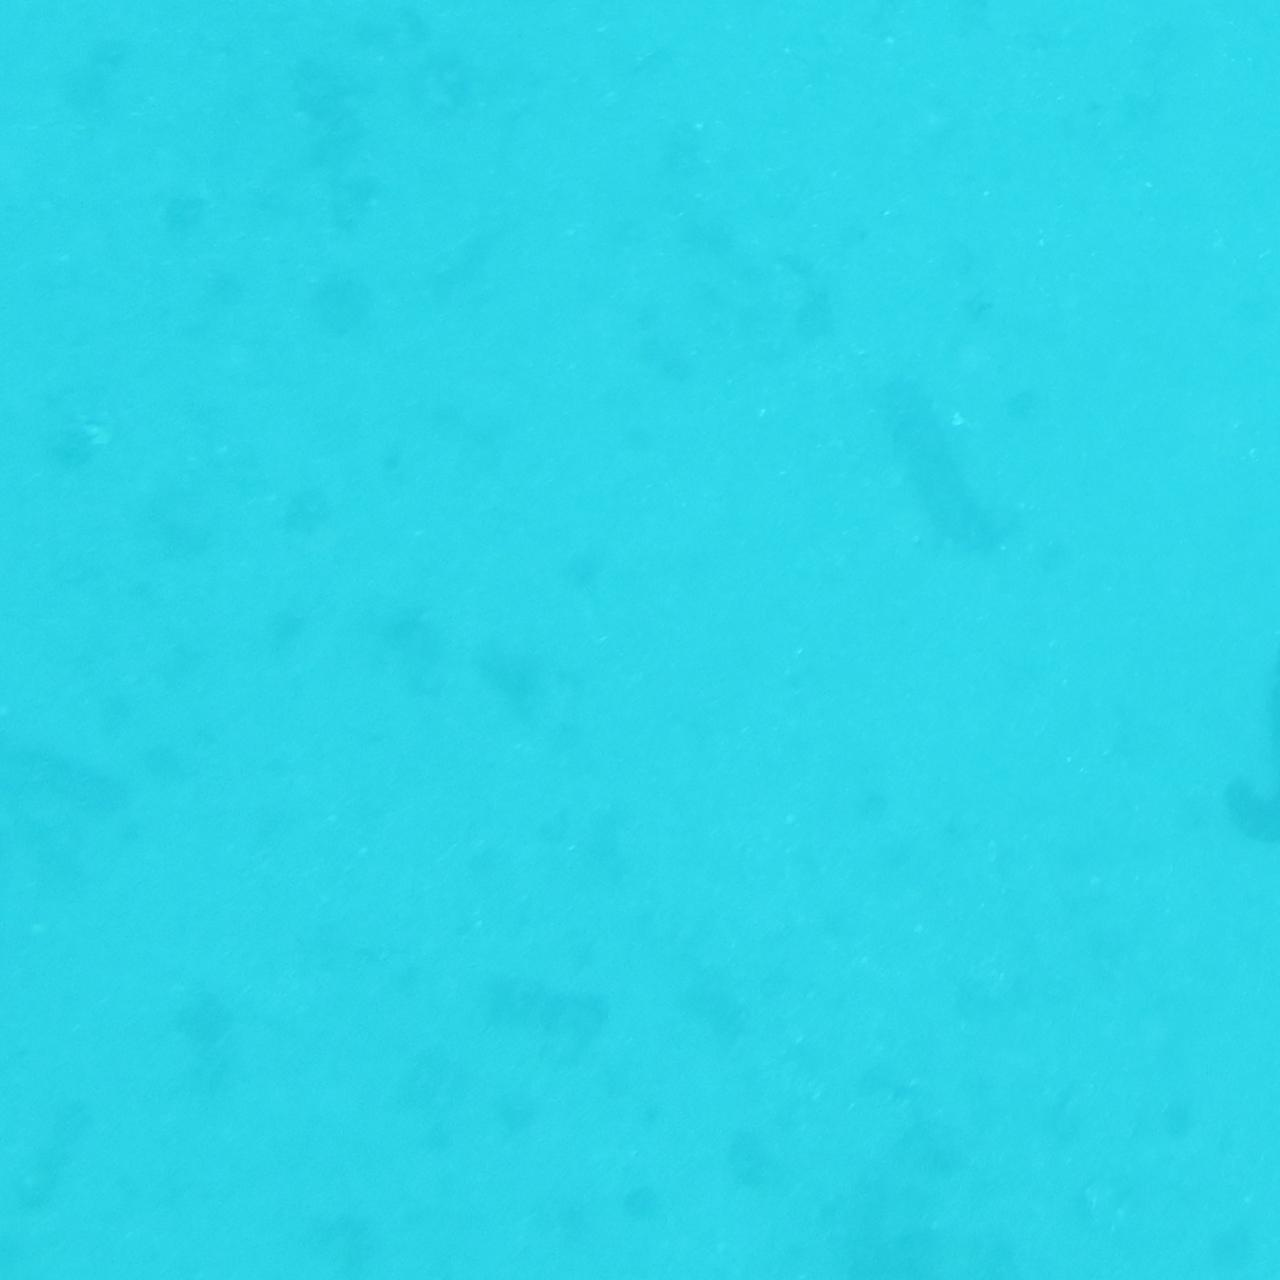Holothuria tubulosa: (872, 383, 1037, 571), (1194, 584, 1280, 860), (0, 729, 142, 879)
